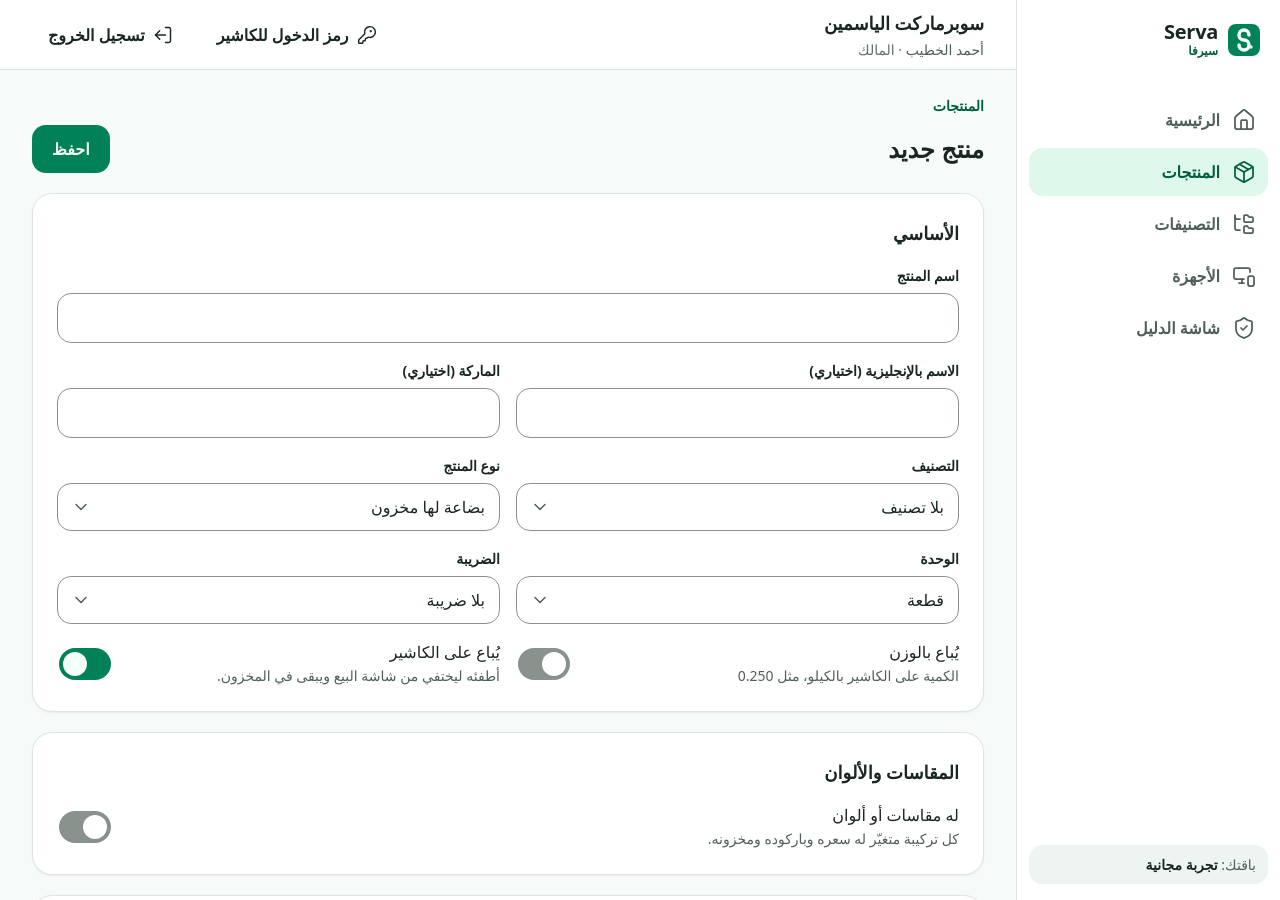
it: a new product › marks the missing name and price, and focuses the name
Check: the field labelled "اسم المنتج" is shown, box [58,294,958,342]
Click the button "احفظ" at (71, 149), box [32,125,110,173]
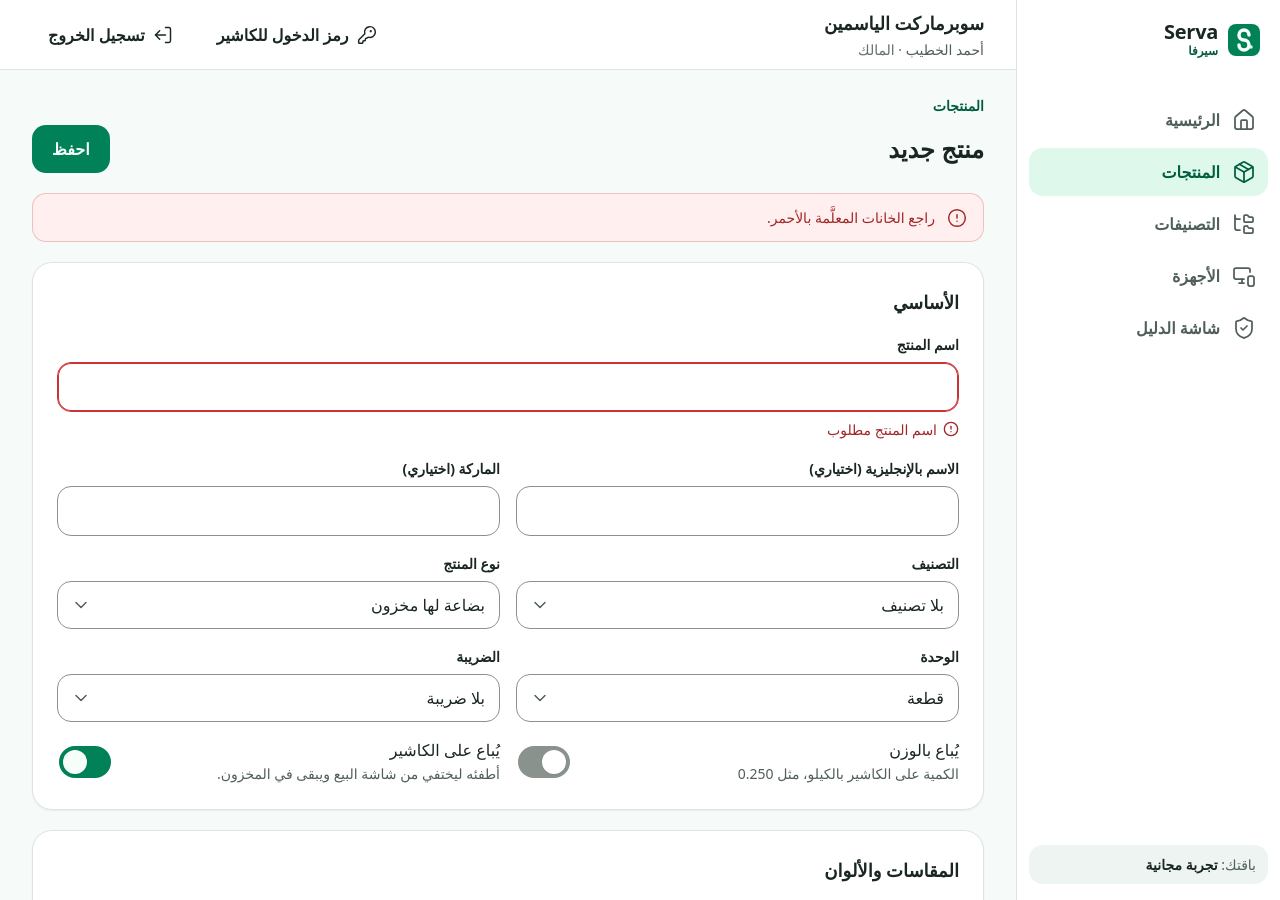
Check: the text "اسم المنتج مطلوب" is shown, box [827,418,937,441]
